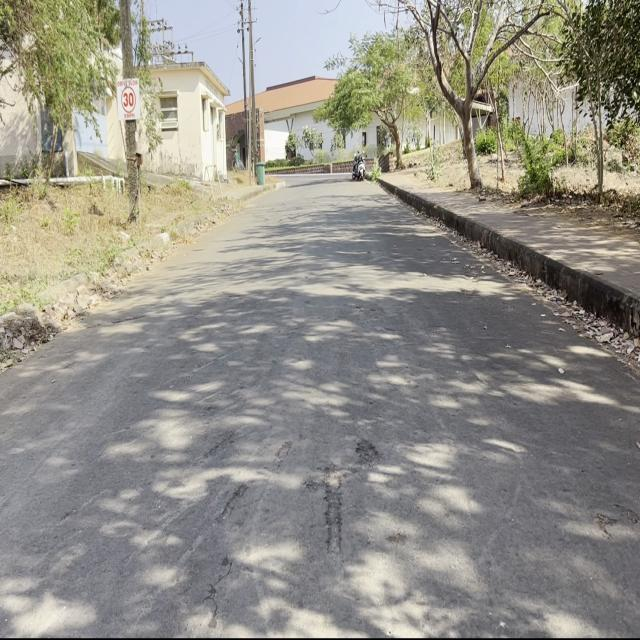Road: (3, 173, 636, 633)
